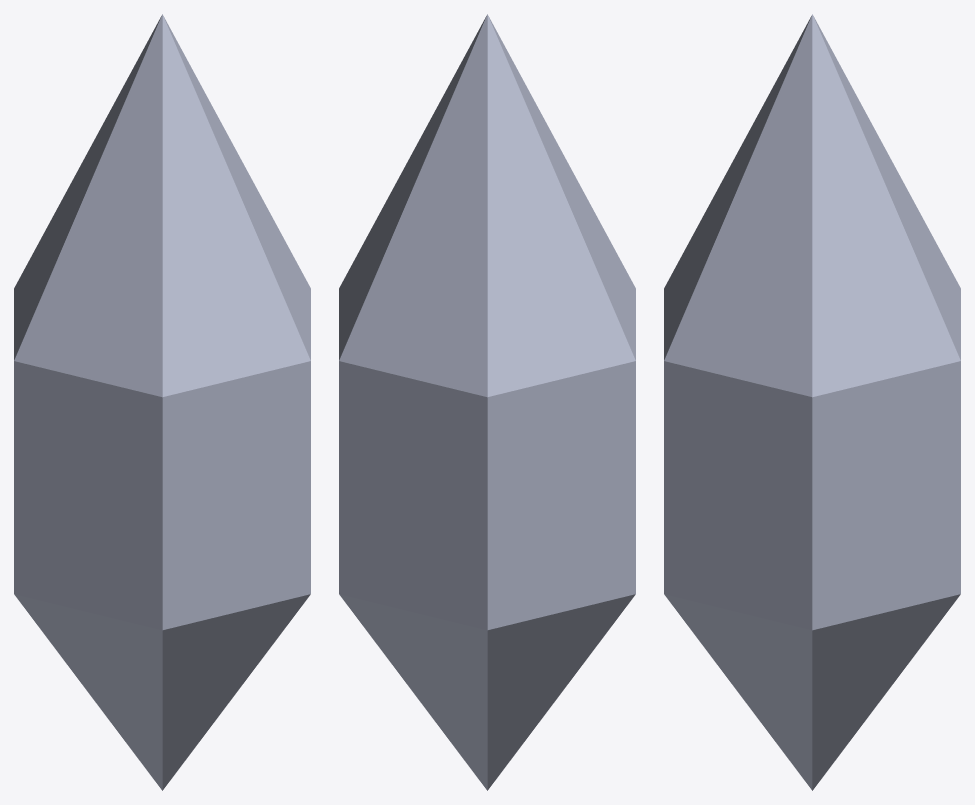
File: crystal.glb
3 renders of one model, left to right at view 1: azimuth 30°, elevation 25°; view 2: azimuth 150°, elevation 25°; view 3: azimuth 270°, elevation 25°, orthographic.
Visible parts, largest first — view 1: Crystal; view 2: Crystal; view 3: Crystal.
Boxes of the visible parts, x1,y1,x2,y2 form: Crystal: (14,14,310,790); Crystal: (339,14,635,790); Crystal: (664,14,960,790).
Size of the model in its own units: 1 by 2.5 by 0.866.
